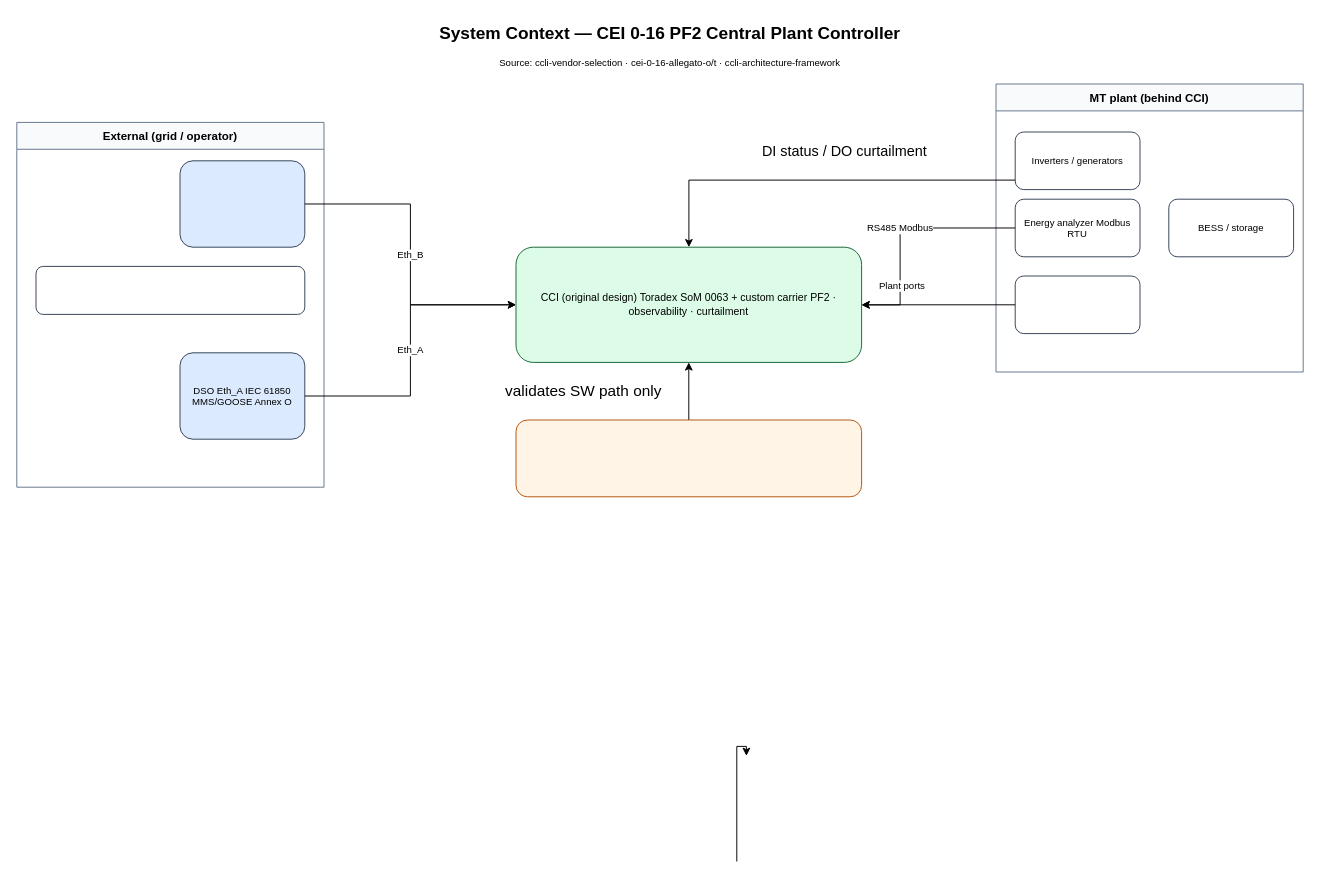
This 1320x886 diagram has some shape labels left out. Each missing label, with the centre of its shape:
Operatore Abilitato Eth_B 61850 / 60870-104 Annex T: (x=242, y=203)
Phase 1 LAB ONLY Verdin Dev Board 99991105 2x GbE · 1x RS485 DB9: (x=688, y=458)
Plant LAN Modbus TCP: (x=1077, y=304)
UPS / cabinet power 12-24 Vdc context: (x=170, y=289)
